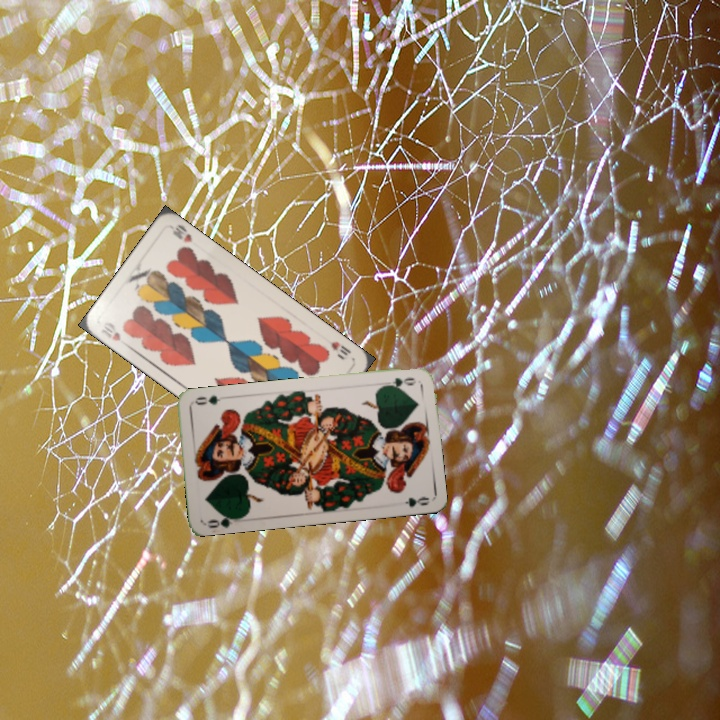GO: (203, 510, 243, 531), (379, 373, 419, 391)
H10: (97, 322, 123, 344), (327, 337, 354, 358)
